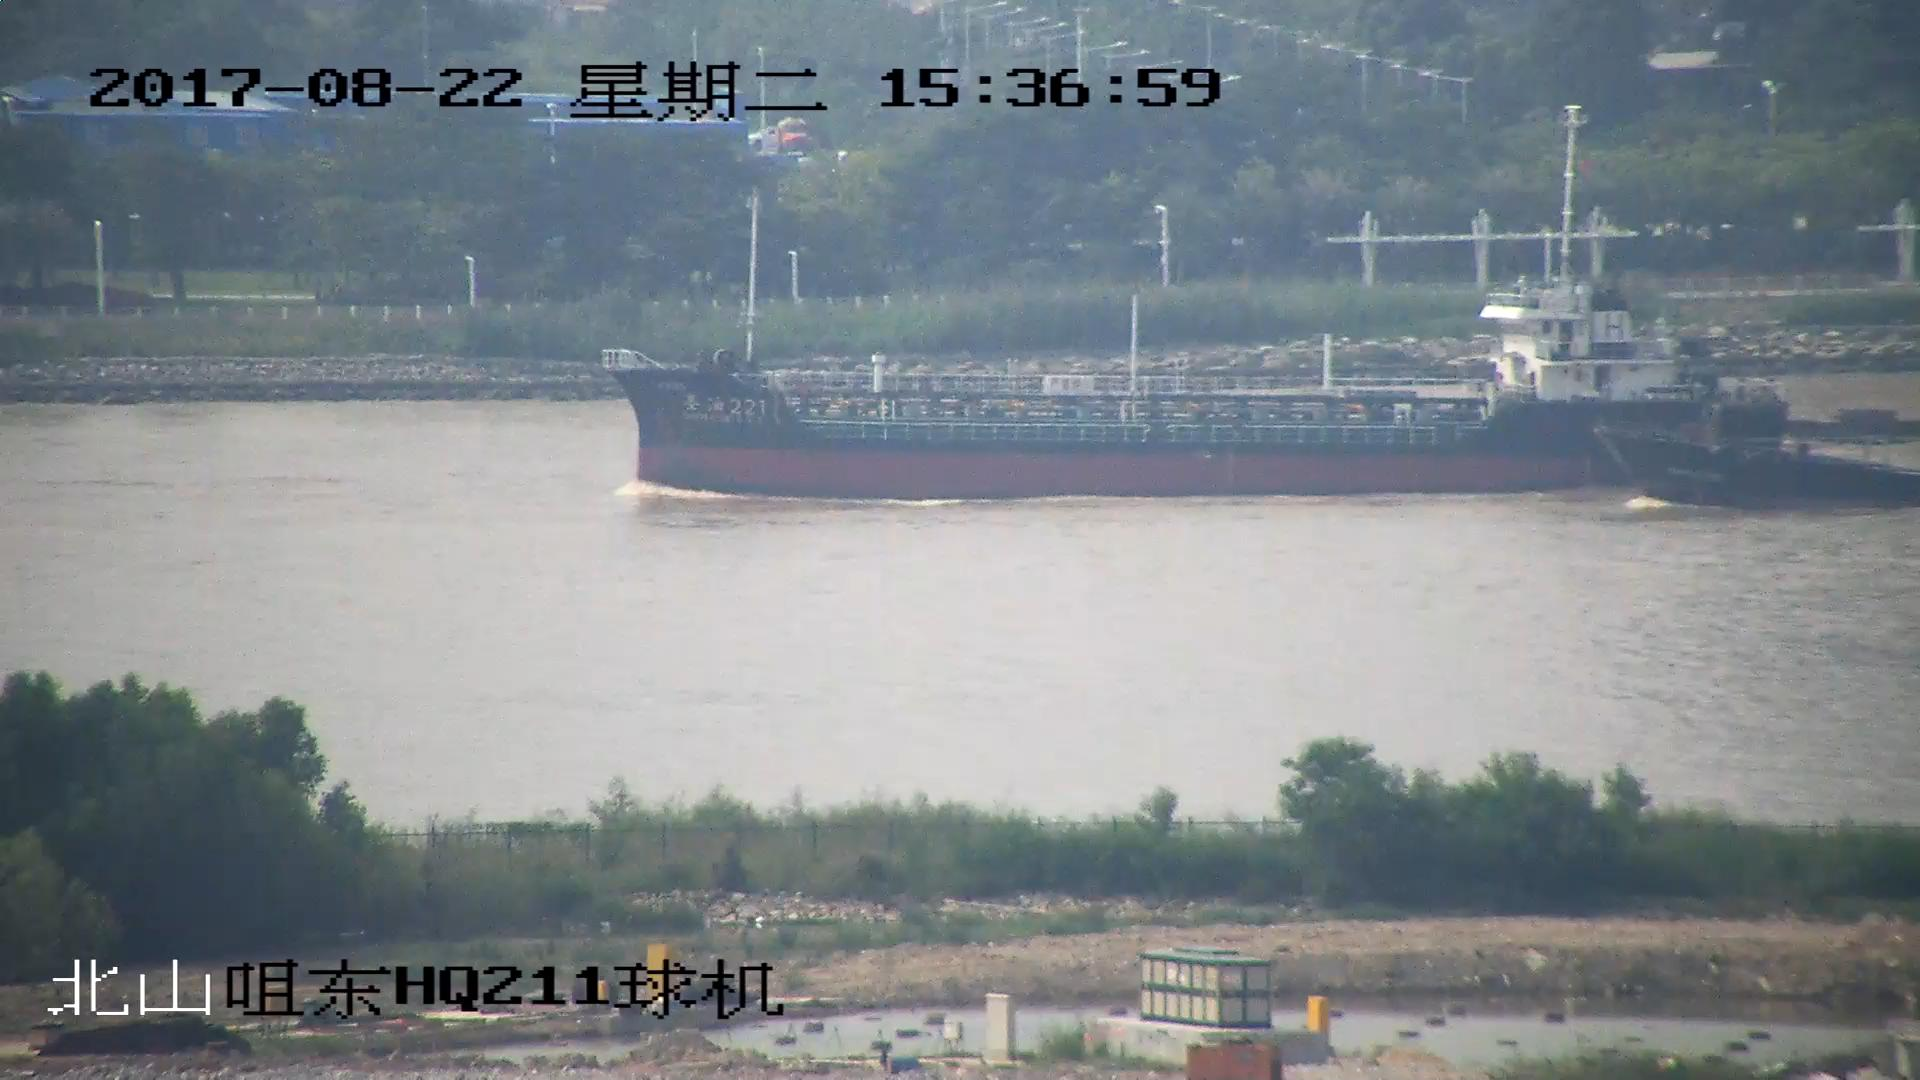fishing boat: (1601, 382, 1920, 507)
general cargo ship: (604, 125, 1697, 501)
